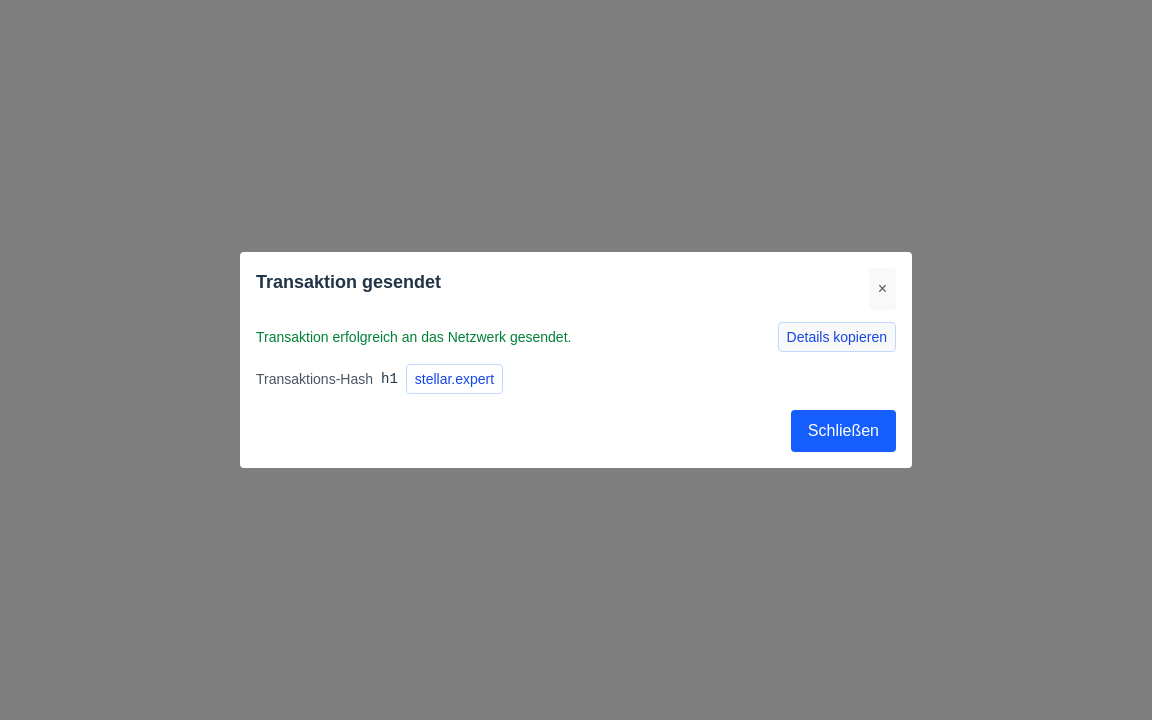
it: MultisigResultDialog › Gesendet: Status, Explorer-Links, Details kopieren, keine Frist
Expected: the heading "Transaktion gesendet" is shown, [256,268,441,296]
Click the button "Details kopieren" at (837, 337), box [778,322,896,352]
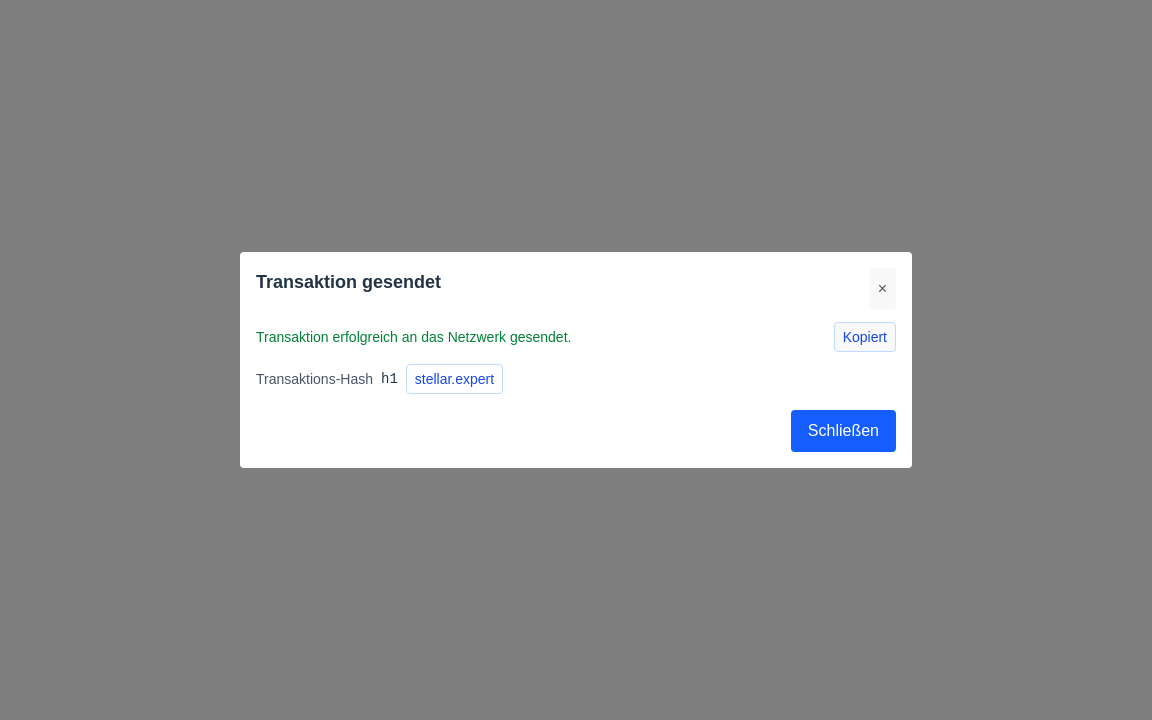
Expected: the button "Kopiert" is shown, [834,322,896,352]
